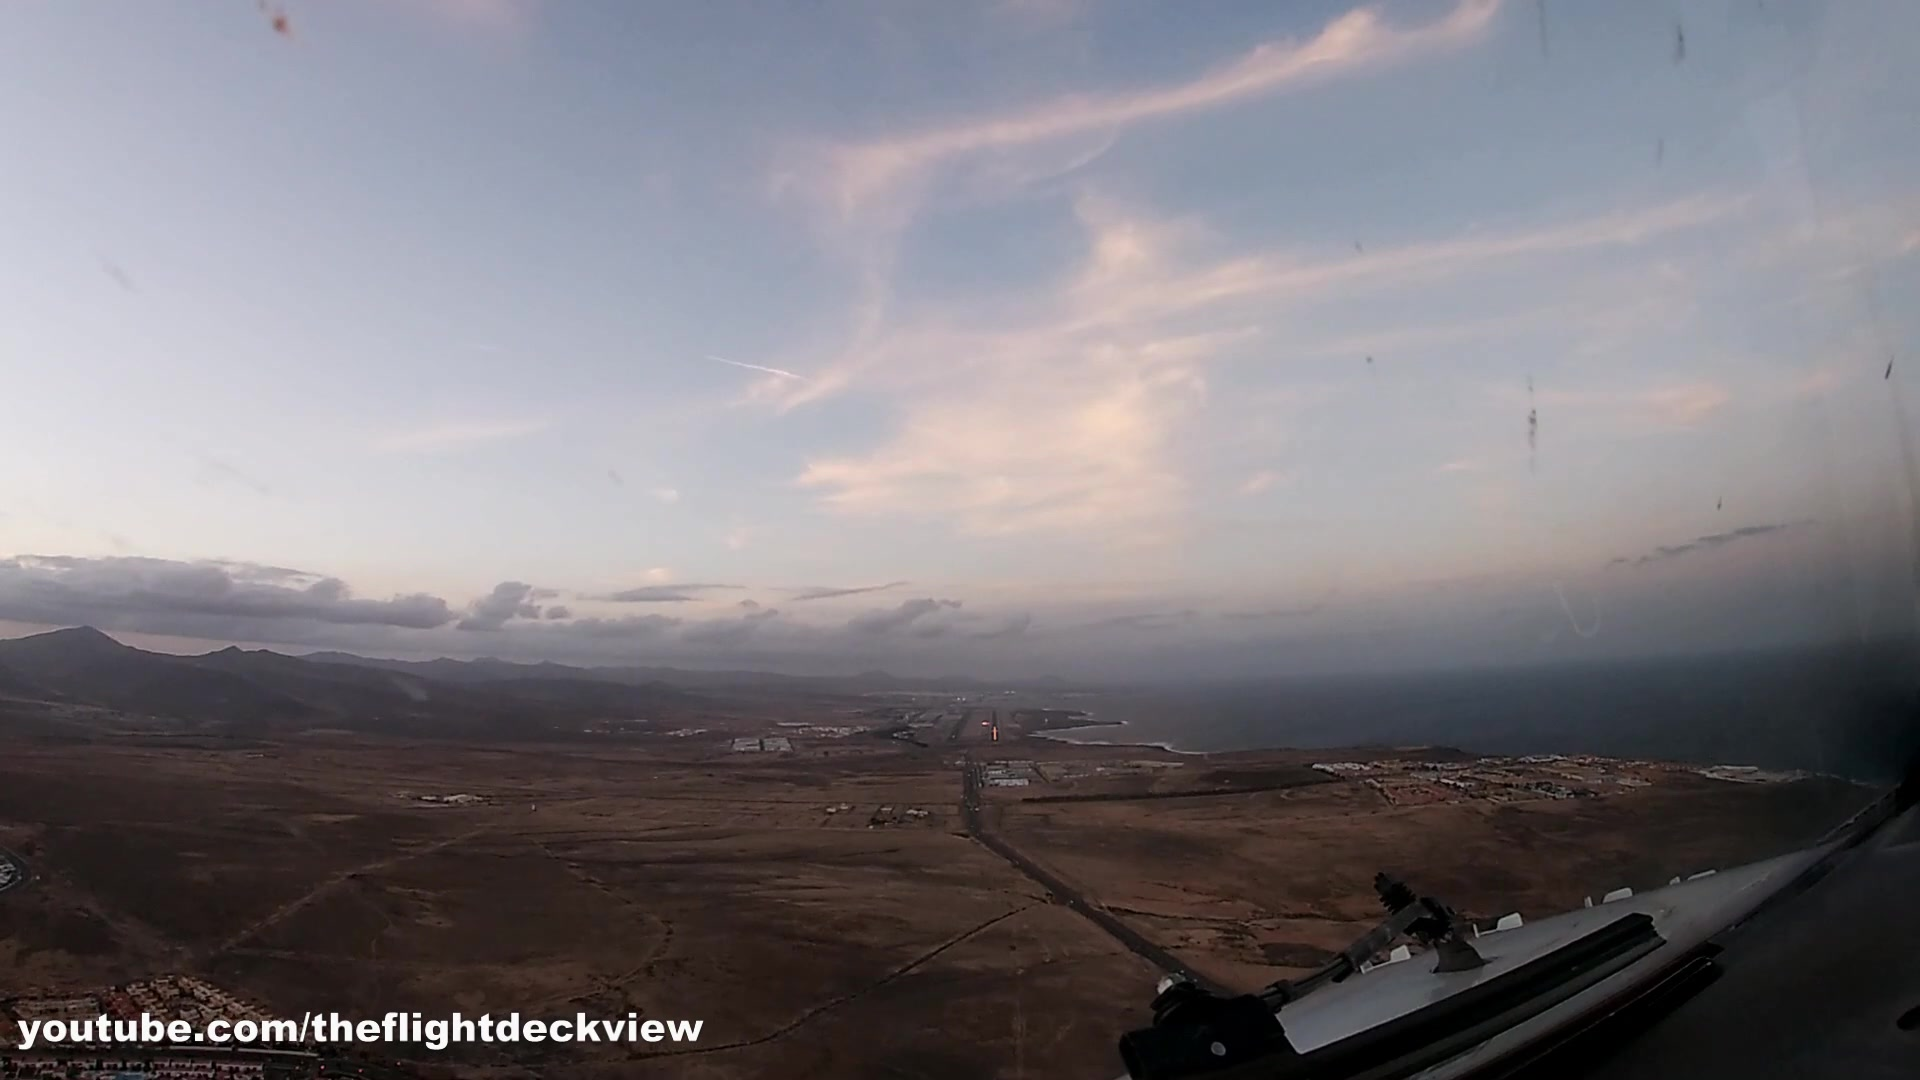runway: (988, 711, 1001, 744)
